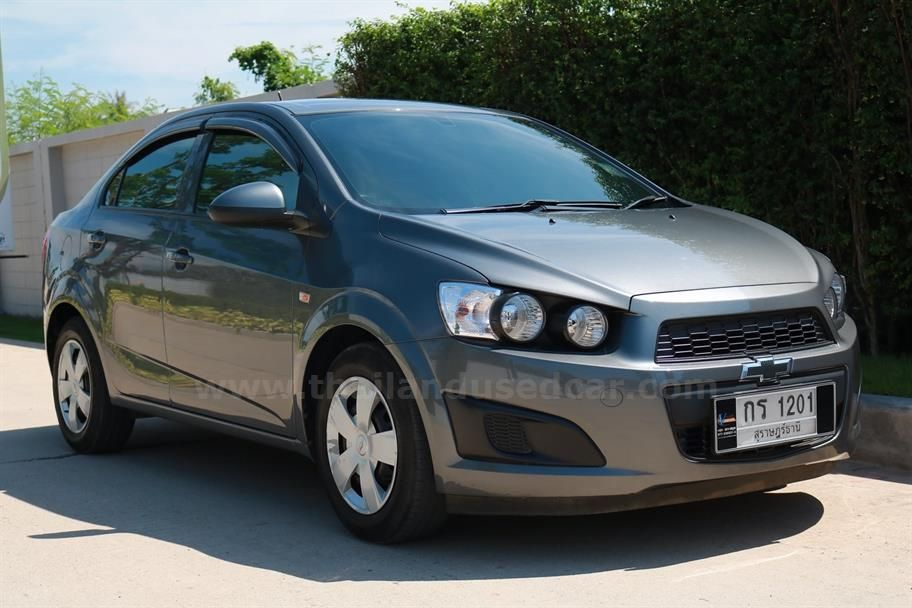sedan: (36, 98, 865, 533)
